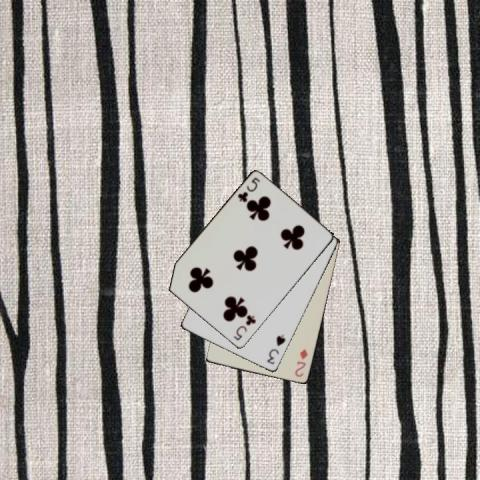2d: (293, 346, 309, 379)
3s: (264, 332, 287, 366)
5c: (230, 313, 257, 342), (235, 175, 262, 204)
